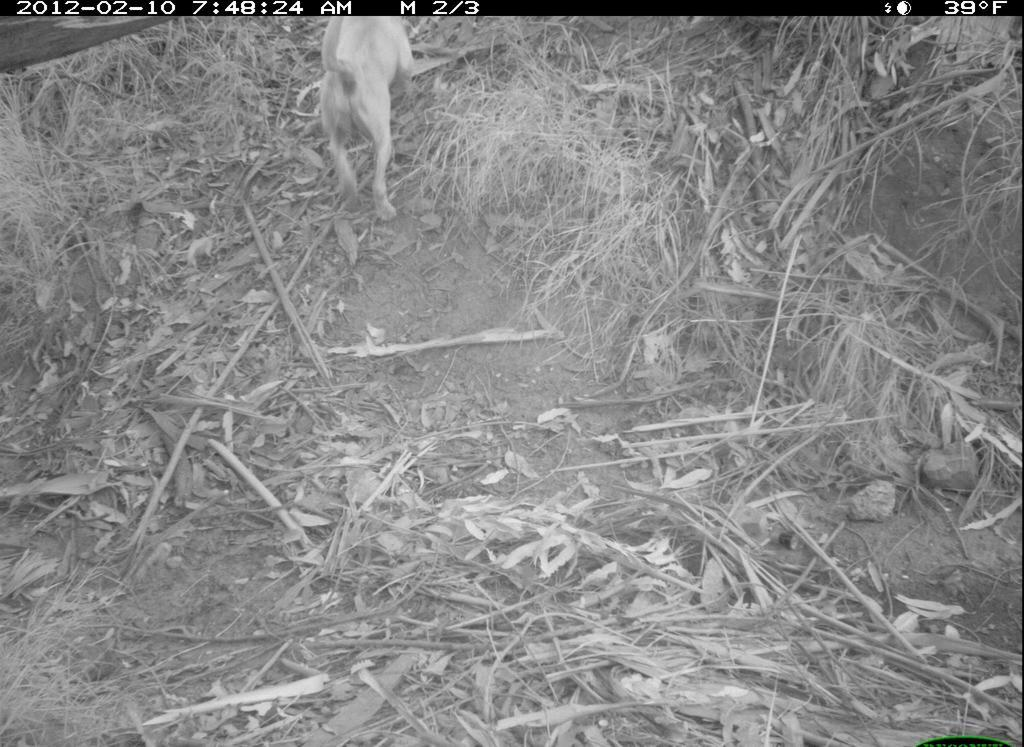dog: (299, 18, 433, 242)
